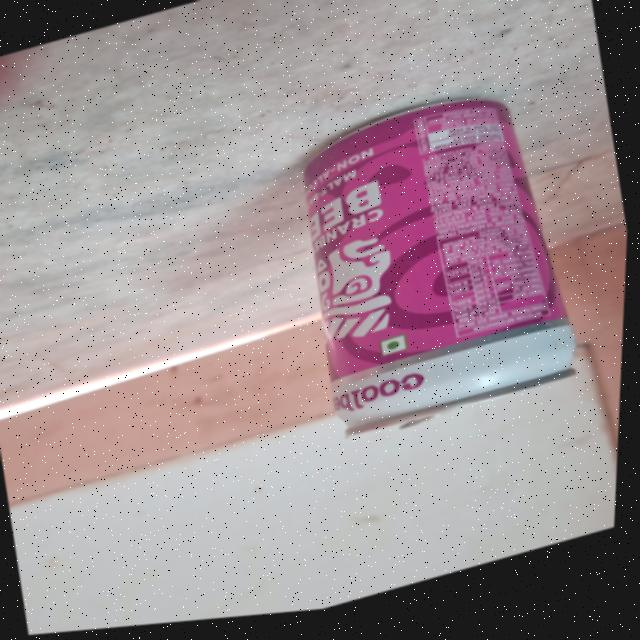Coolberg: (280, 77, 604, 457)
